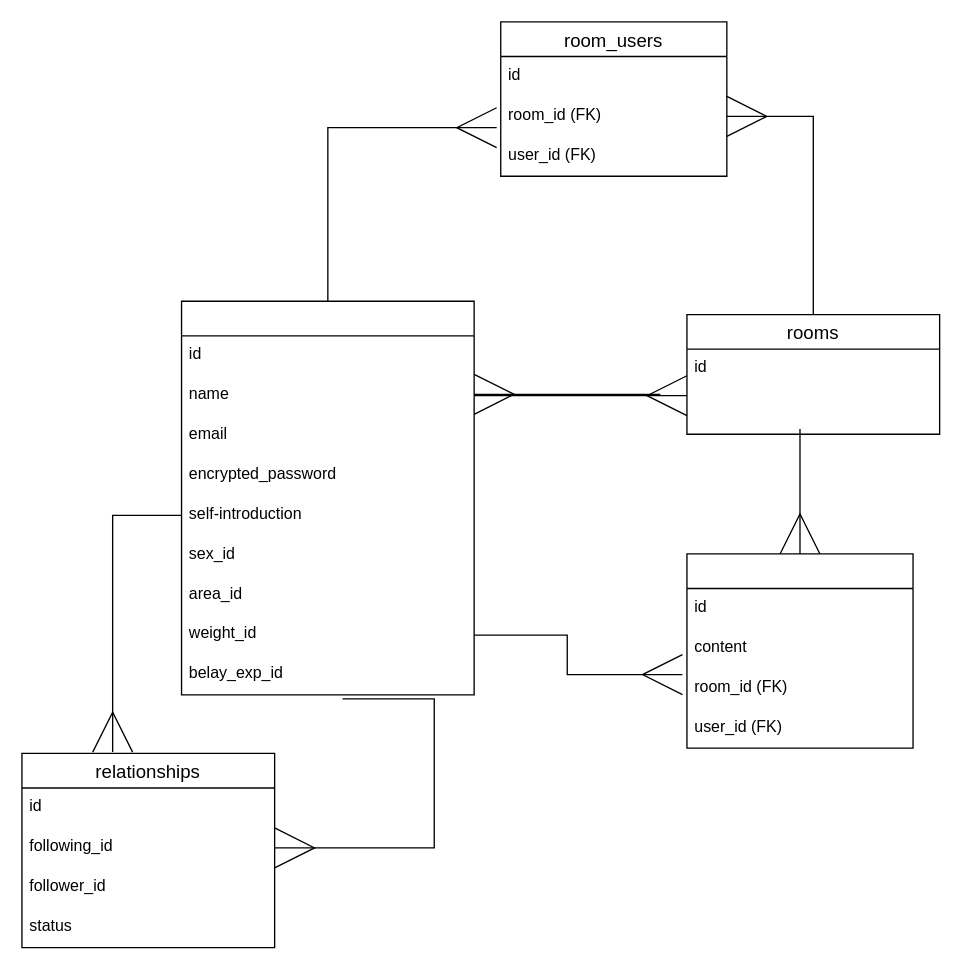
Image size: 962x970. Some labels were removed from this diagram. The shapes that lost their labels are listed below. From the top down, each one's box as (x1, y1, x2, y2) in pixels, then its label:
(180, 300, 474, 695): users
(686, 553, 913, 748): messages
